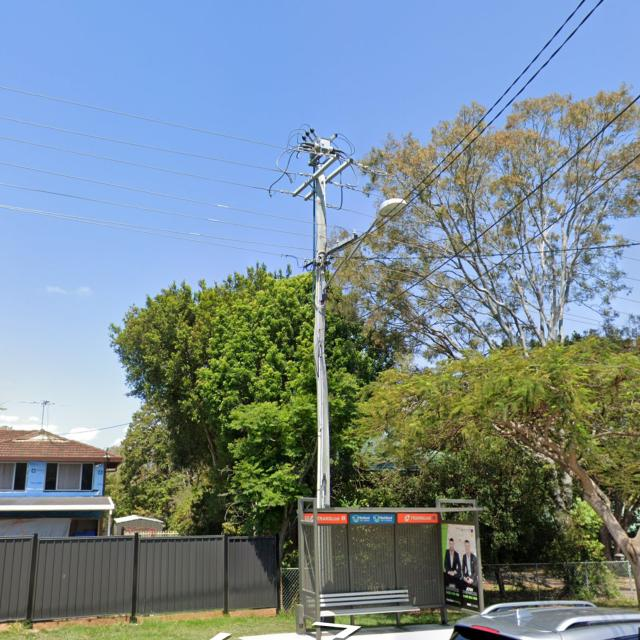HV-switch: (298, 127, 344, 167)
HV-transmission: (280, 152, 371, 209)
crossarm: (304, 158, 354, 201), (292, 154, 340, 197), (302, 232, 358, 268)
streetlight: (323, 197, 408, 291)
timber-pole: (313, 162, 330, 508)
